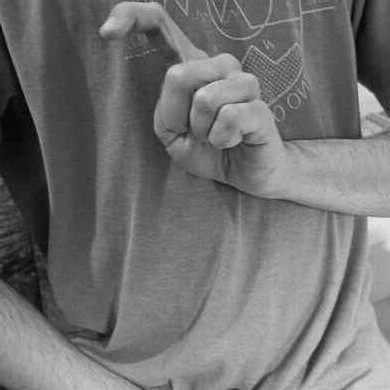X: (97, 1, 281, 200)
